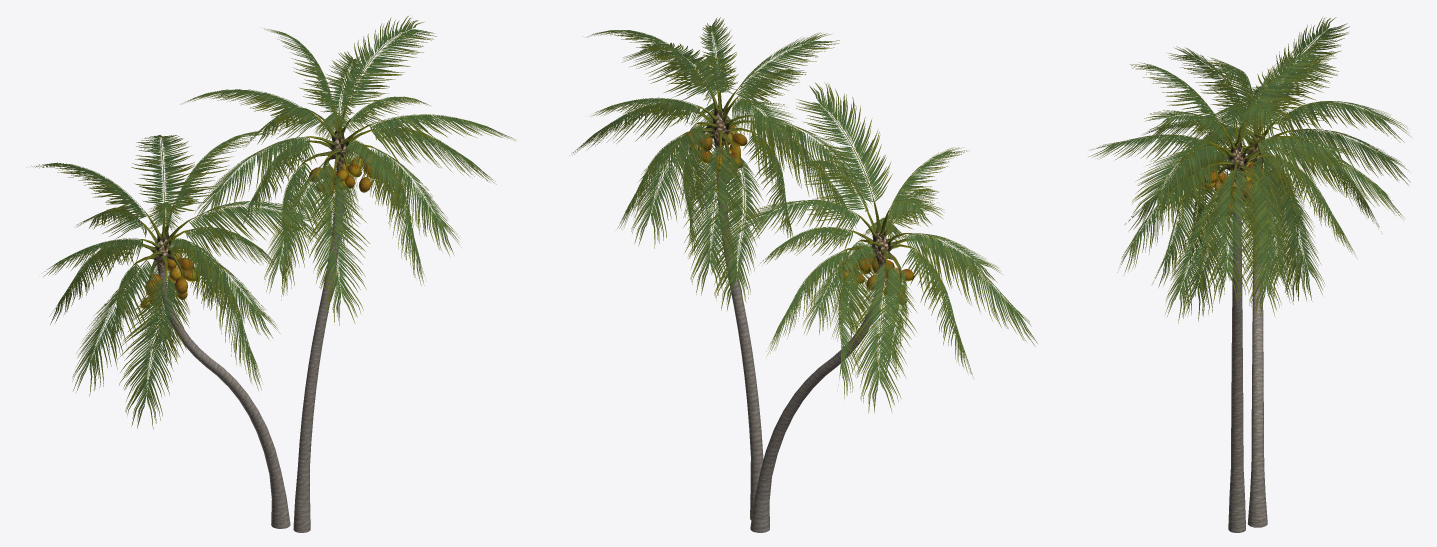
The model's file is coconut_palm.glb.
3 renders of one model, left to right at view 1: azimuth 30°, elevation 25°; view 2: azimuth 150°, elevation 25°; view 3: azimuth 270°, elevation 25°, orthographic. The views are drawn at different scales.
Parts seen in each view (by area): view 1: Tree_2_Tree_2Mat_0, Tree_0_Tree_0Mat_0, Tree_3_Tree_3Mat_0, Tree_4_Tree_4Mat_0; view 2: Tree_2_Tree_2Mat_0, Tree_0_Tree_0Mat_0, Tree_3_Tree_3Mat_0, Tree_4_Tree_4Mat_0, Tree_1_Tree_1Mat_0; view 3: Tree_2_Tree_2Mat_0, Tree_0_Tree_0Mat_0, Tree_3_Tree_3Mat_0, Tree_4_Tree_4Mat_0.
Boxes of the visible parts, <box> form: Tree_2_Tree_2Mat_0: <box>29,15,515,429</box>; Tree_0_Tree_0Mat_0: <box>158,170,343,532</box>; Tree_3_Tree_3Mat_0: <box>132,98,378,295</box>; Tree_4_Tree_4Mat_0: <box>140,154,375,308</box>; Tree_2_Tree_2Mat_0: <box>569,17,1037,413</box>; Tree_0_Tree_0Mat_0: <box>716,152,885,532</box>; Tree_3_Tree_3Mat_0: <box>679,82,917,291</box>; Tree_4_Tree_4Mat_0: <box>685,126,914,305</box>; Tree_1_Tree_1Mat_0: <box>712,112,888,269</box>; Tree_2_Tree_2Mat_0: <box>1089,17,1410,323</box>; Tree_0_Tree_0Mat_0: <box>1228,201,1267,532</box>; Tree_3_Tree_3Mat_0: <box>1204,112,1296,202</box>; Tree_4_Tree_4Mat_0: <box>1202,162,1283,217</box>.
Bounding box in the file's own units: 6.3 × 6.28 × 4.02.
Materials: 5 (5 with a texture image).
